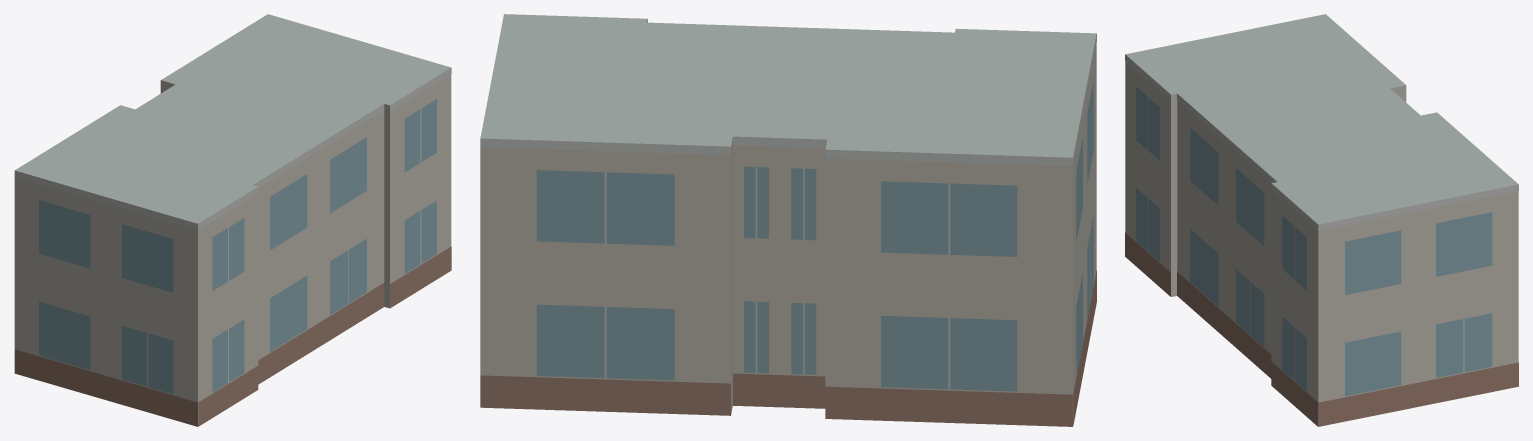
Rendered from survey-upis-32736055.glb.
The picture shows the model from 3 angles, left to right: view 1: azimuth 30°, elevation 25°; view 2: azimuth 150°, elevation 25°; view 3: azimuth 270°, elevation 25°; orthographic projection. The views are drawn at different scales.
Parts seen in each view (by area): view 1: survey-upis-32736055.tmp; view 2: survey-upis-32736055.tmp; view 3: survey-upis-32736055.tmp.
Part boxes in pixels (<box>): survey-upis-32736055.tmp: <box>14,14,451,426</box>; survey-upis-32736055.tmp: <box>480,14,1096,426</box>; survey-upis-32736055.tmp: <box>1125,14,1518,426</box>.
Size of the model in its own units: 16.75 by 7.5 by 13.23.
